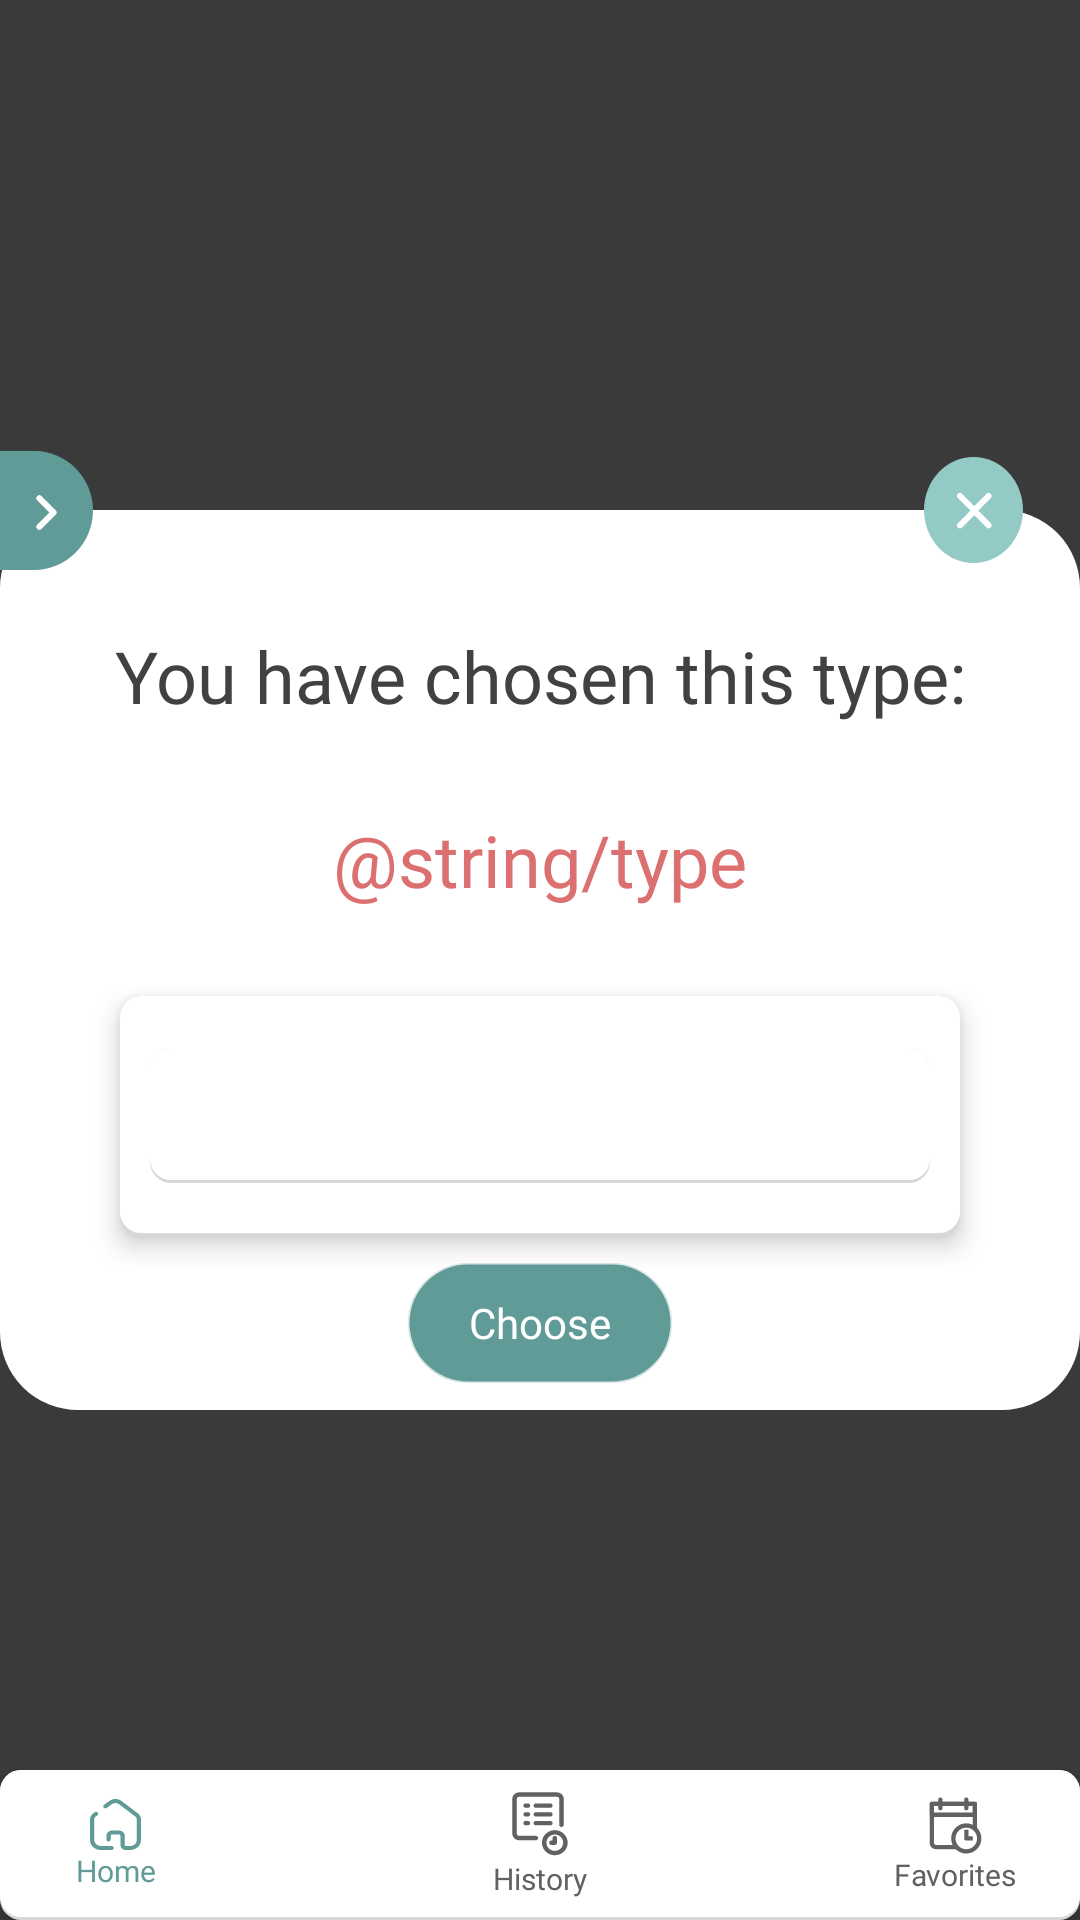

Named icons in this screenshot (1080 × 1920) and their centers, [x,y]:
close: [973,523]
